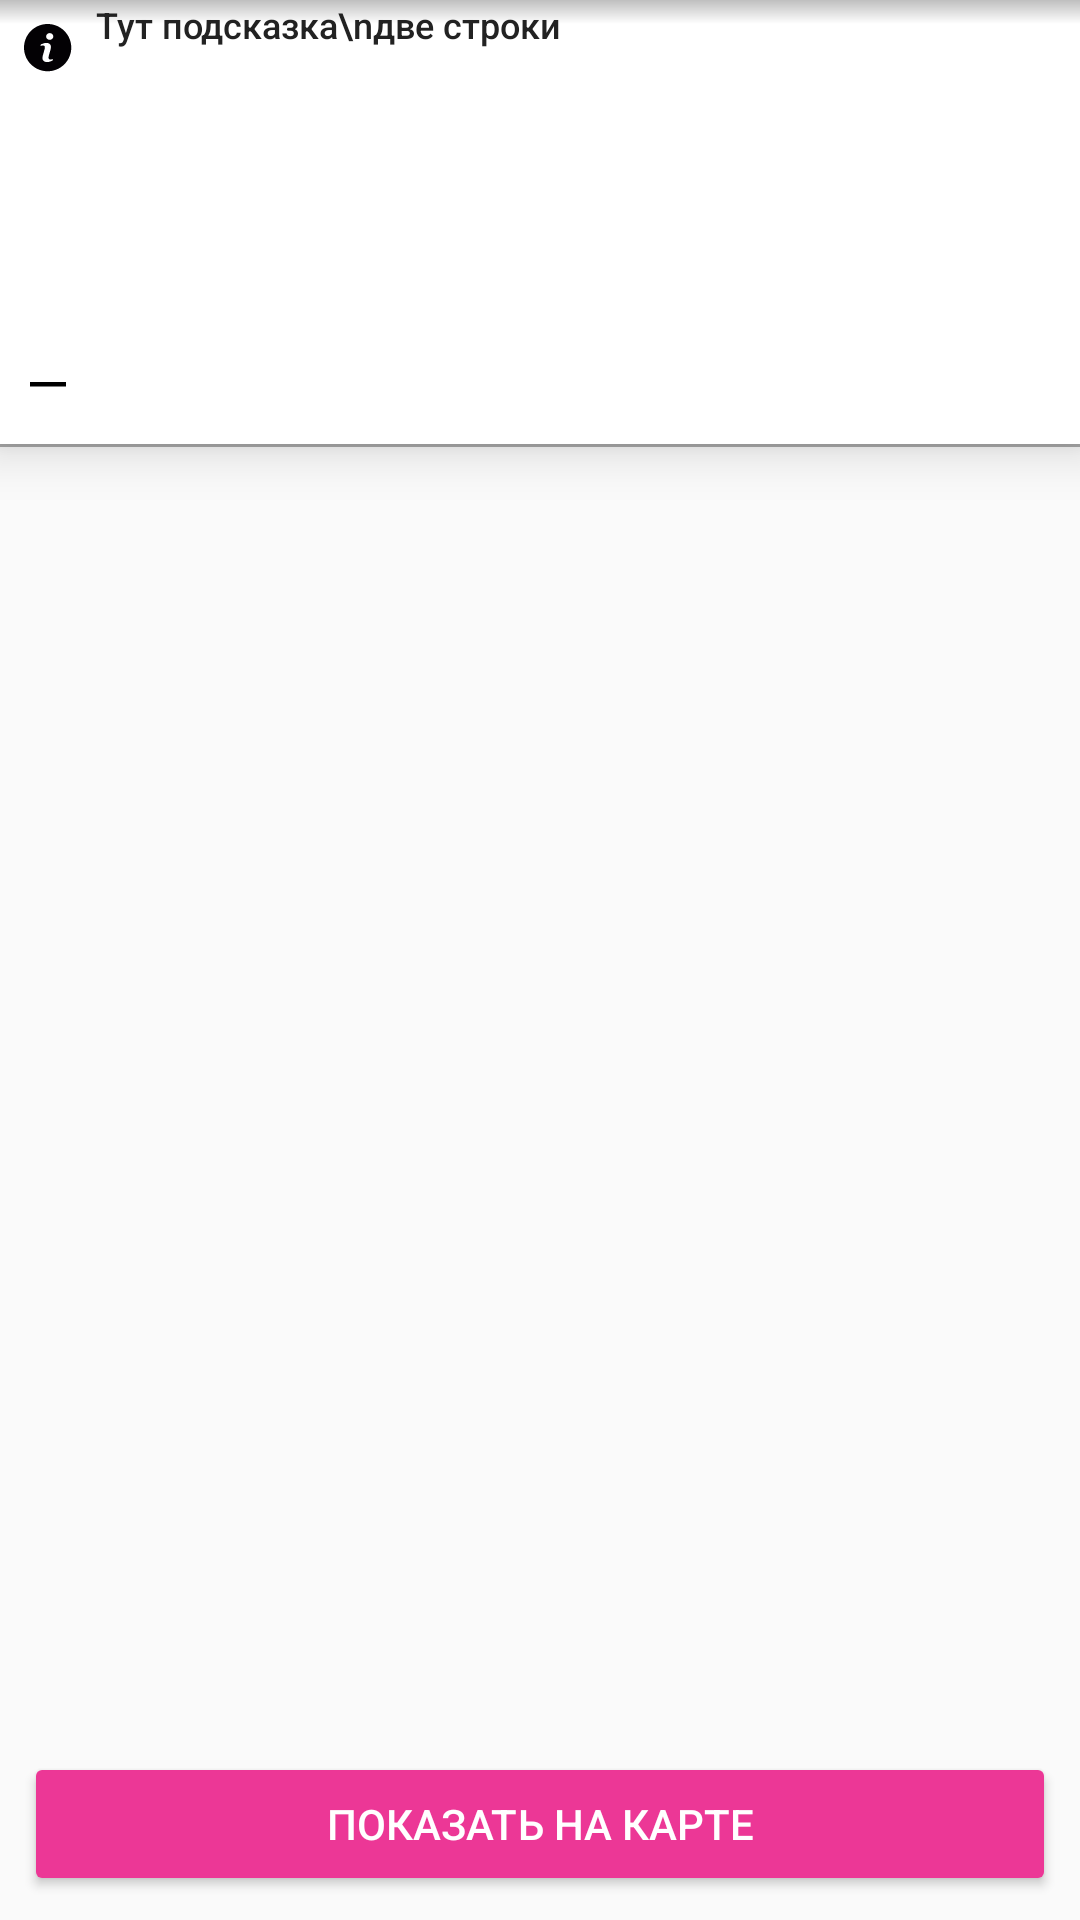

Icon click points for this 1080w x 1920h phone screenshot, format [x,y]:
info: [48,48]
